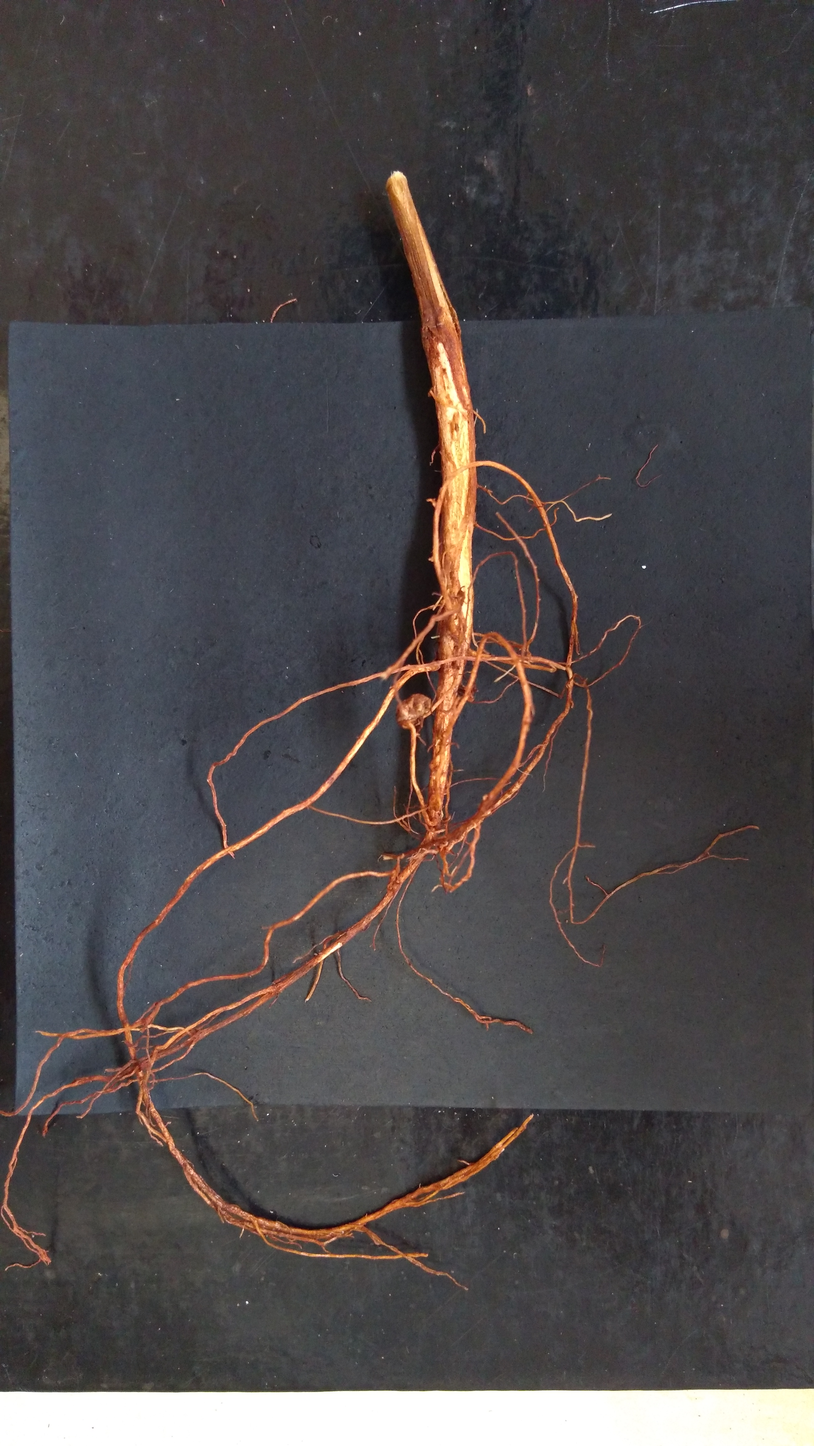nodule: (393, 691, 434, 733)
